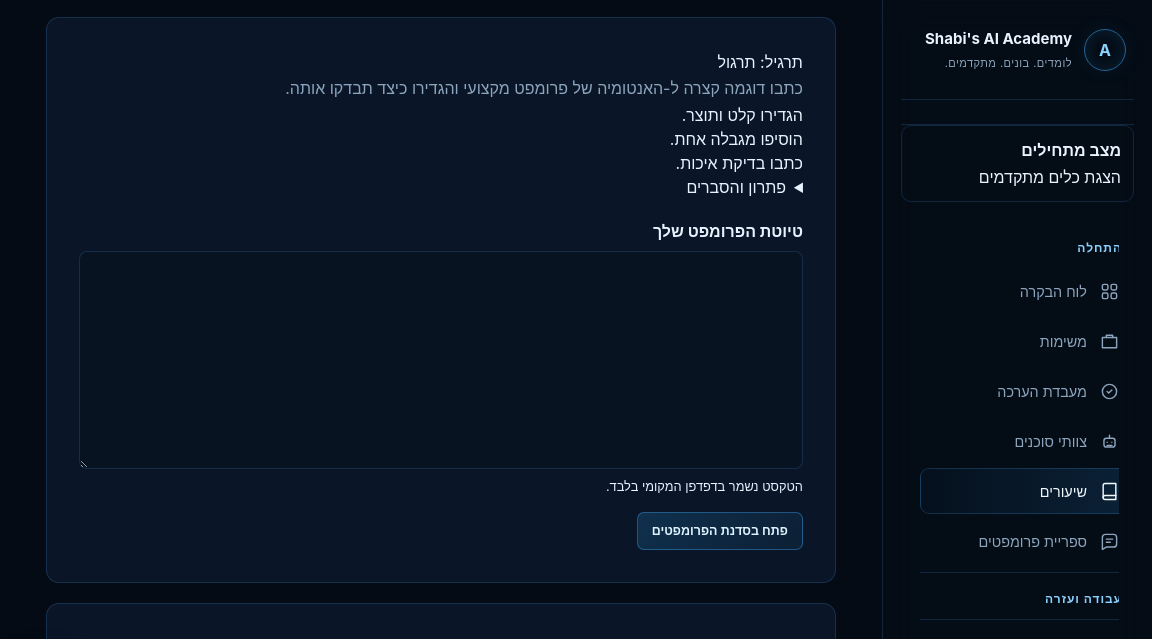
Lesson quiz and completion › saves a lesson draft locally and opens the Workshop with a prefilled sample
(page scrolled)
Type "טיוטה לבדיקה" into the text box labelled "טיוטת הפרומפט שלך". click: {"x": 441, "y": 360}
box: 79,251 -> 803,469
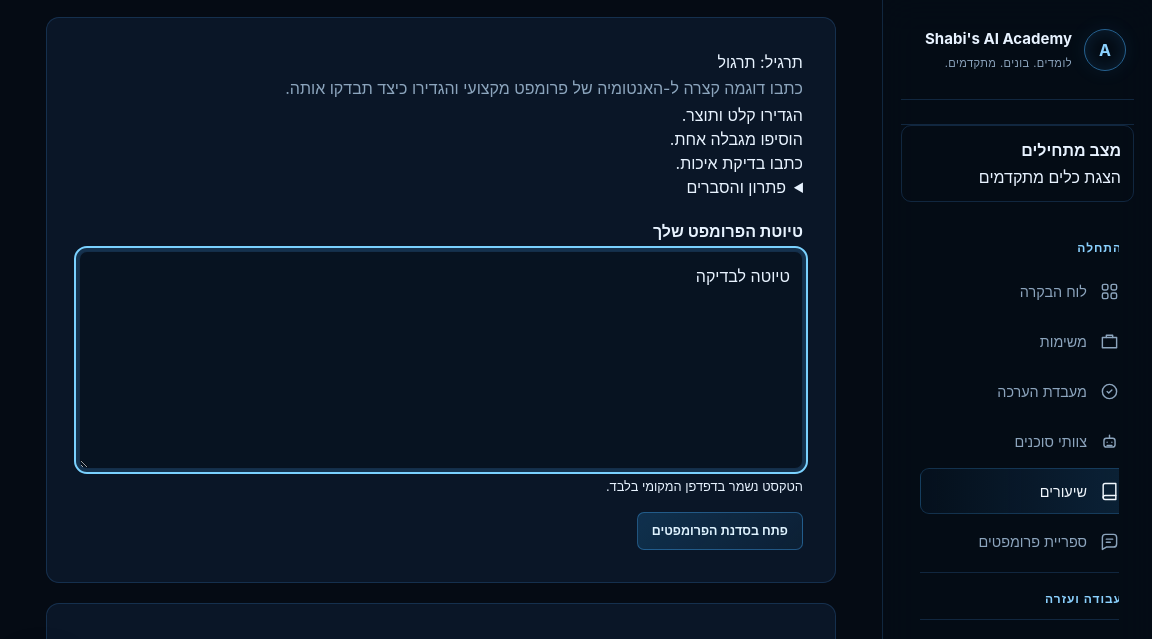
Click the link "פתח בסדנת הפרומפטים". click: {"x": 720, "y": 532}
box: 637,512 -> 803,550
(page scrolled)
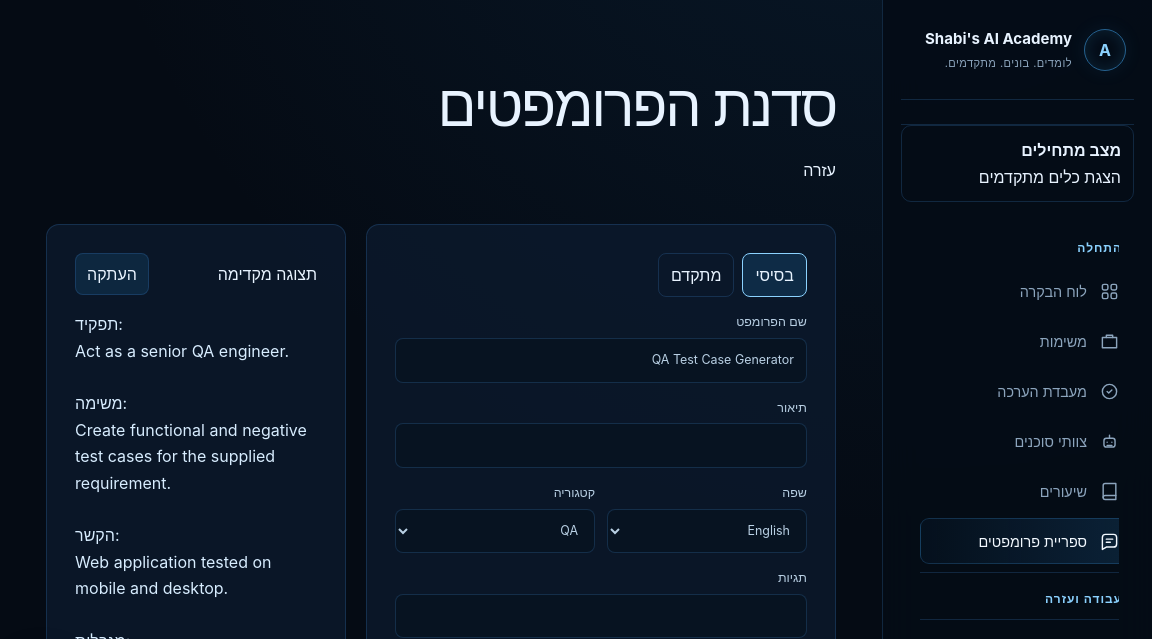
Expected: the field labelled "שם הפרומפט" holds "QA Test Case Generator", 395,338 -> 807,383
